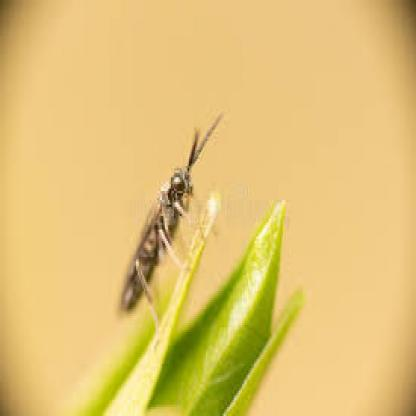sawfly: (117, 111, 226, 324)
